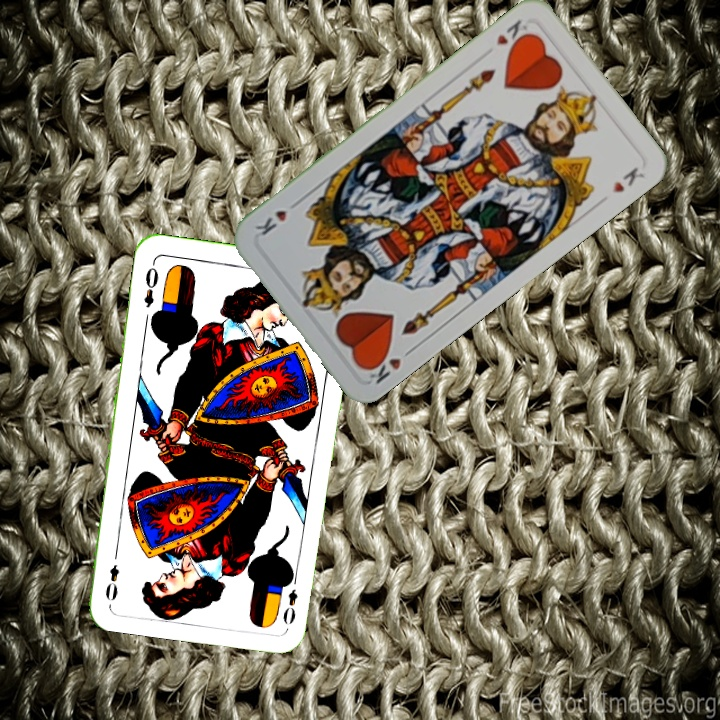EO: (279, 570, 301, 627), (139, 258, 161, 310)
HK: (360, 343, 417, 387), (492, 15, 533, 53)
